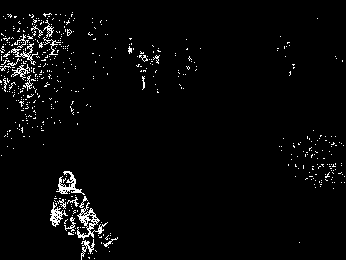person: (49, 169, 116, 260)
